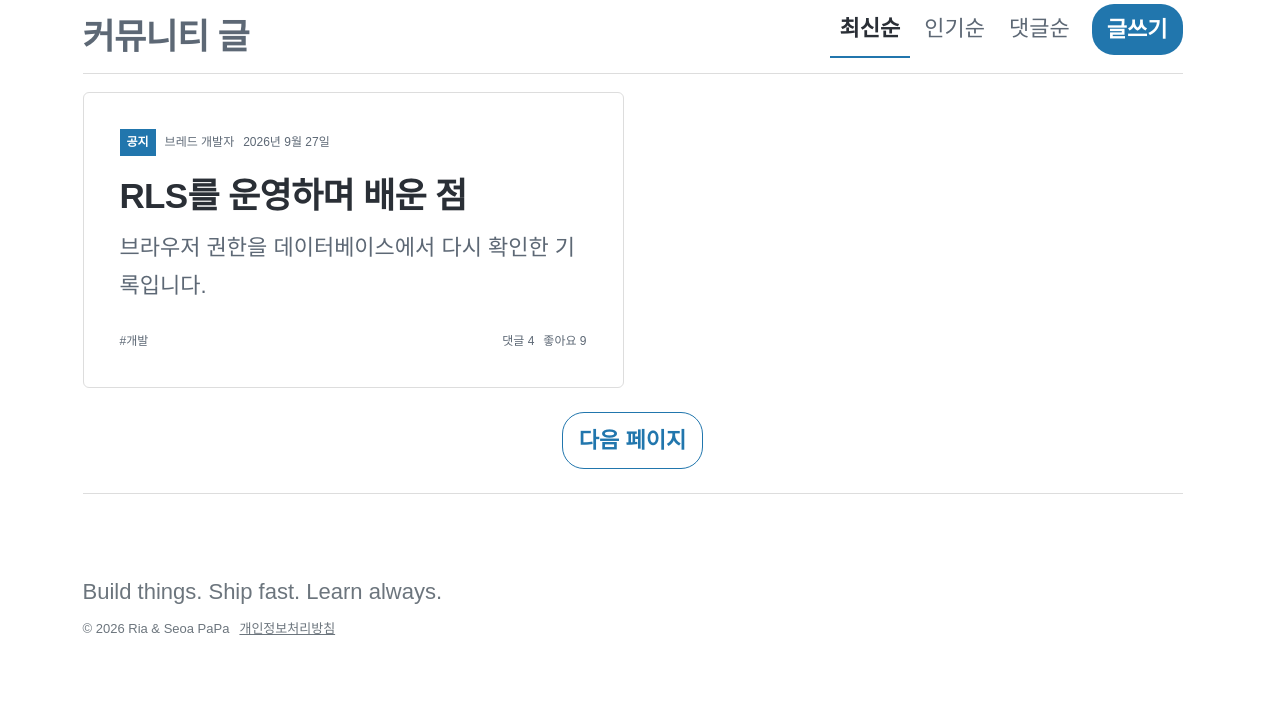
Test: CommunityHomePage › loads the next cursor page, keeps repository order, and removes duplicate posts
(page scrolled)
Click the button "다음 페이지" at point(632, 441), box [562, 412, 703, 469]
(page scrolled)
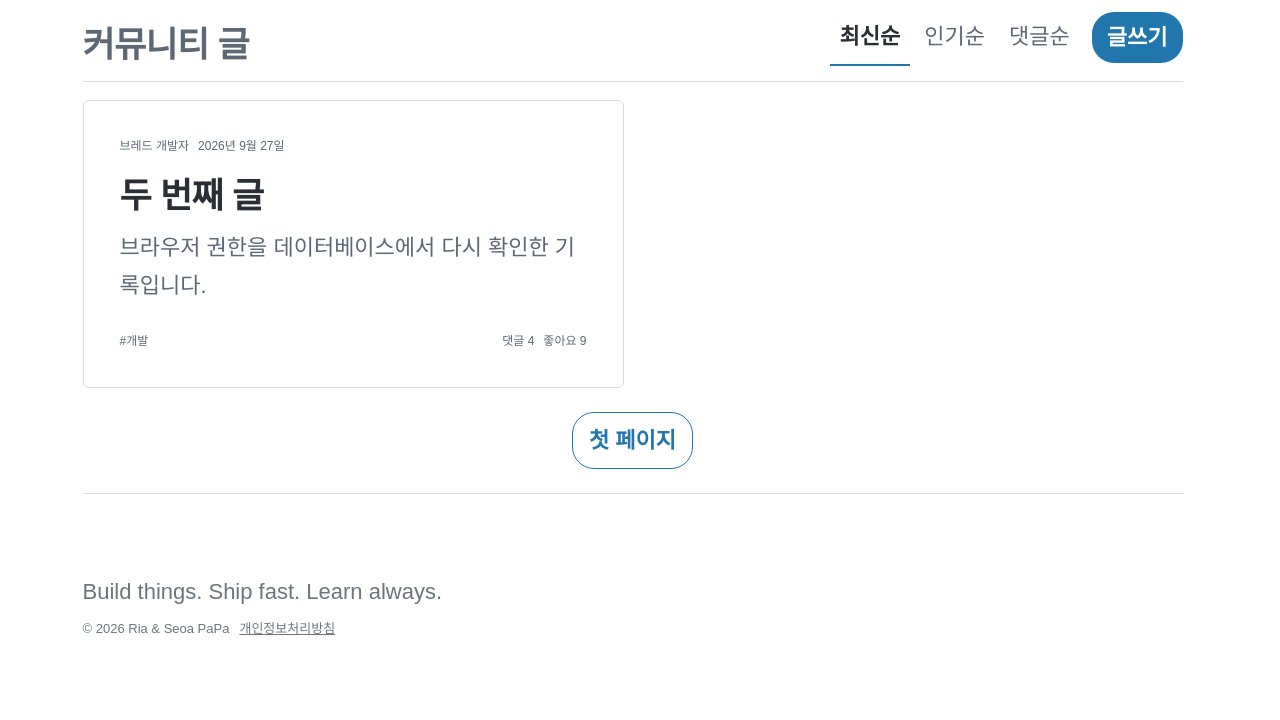
Expected: the number of headings "두 번째 글" is 1, [120, 176, 264, 215]
Expected: the heading "두 번째 글" is shown, [120, 176, 264, 215]
Expected: the link "RLS를 운영하며 배운 점" is gone
